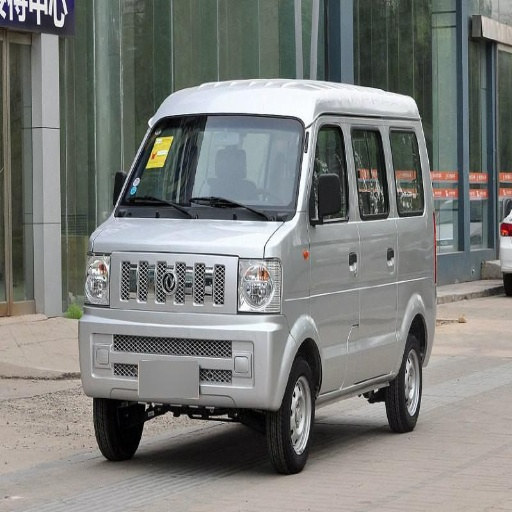front_bumper: (87, 253, 258, 402)
front_glass: (117, 114, 304, 218)
front_left_door: (306, 119, 365, 387)
trunk: (396, 232, 440, 332), (246, 344, 290, 401)
